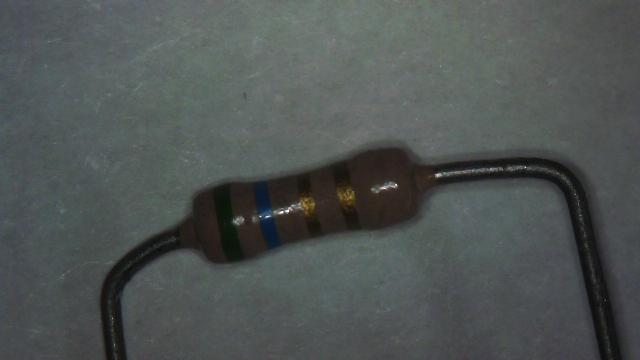blue: (252, 181, 282, 249)
gold: (332, 163, 360, 229), (296, 173, 321, 236)
green: (213, 184, 244, 262)
resistor: (164, 112, 446, 290)
